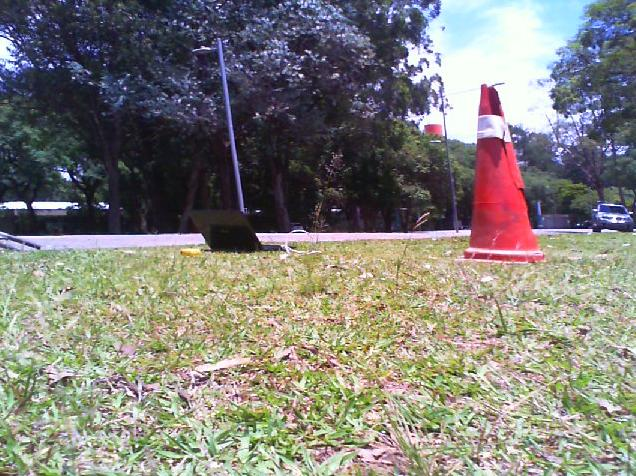0 cone: (464, 84, 548, 262)
